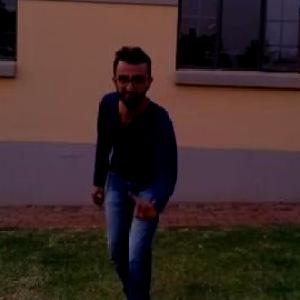takeoff-hand: (127, 179, 161, 228)
